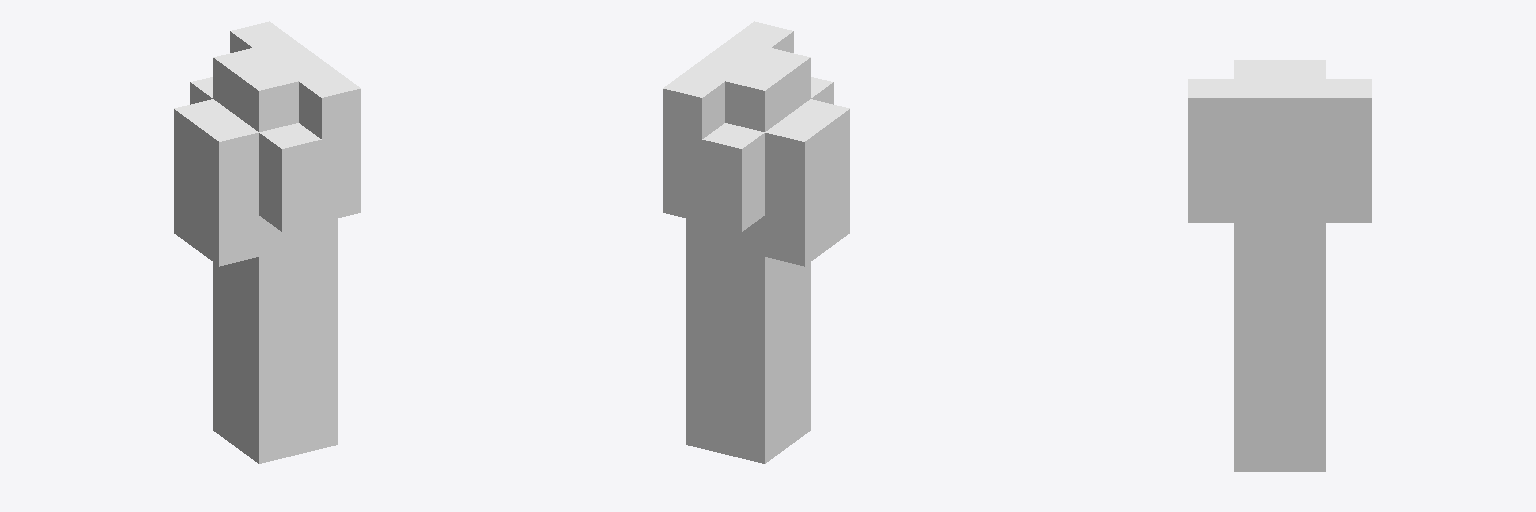
The model's file is Left_Shoulder.obj.
3 renders of one model, left to right at view 1: azimuth 30°, elevation 25°; view 2: azimuth 150°, elevation 25°; view 3: azimuth 270°, elevation 25°, orthographic.
Parts seen in each view (by area): view 1: object 1; view 2: object 1; view 3: object 1.
Boxes of the visible parts, x1,y1,x2,y2 form: object 1: [174, 21, 360, 463]; object 1: [663, 21, 849, 463]; object 1: [1188, 60, 1371, 471].
Bounding box in the file's own units: 0.3 × 0.9 × 0.4.